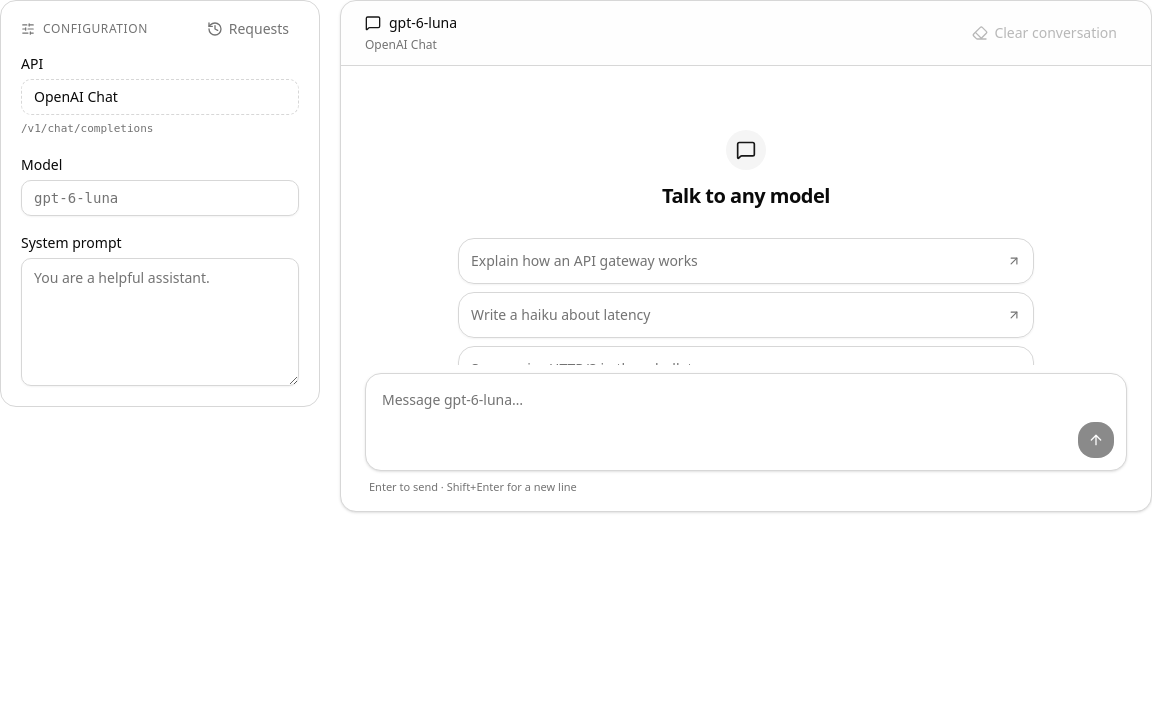
ChatTab › shows a stream that fails midway as an error under the partial reply
This screenshot has width=1152, height=720.
Type "Hi" into the text box labelled "Message".
click(746, 422); type("Hi")  # box x1=366 y1=374 x2=1126 y2=470
Then press Enter
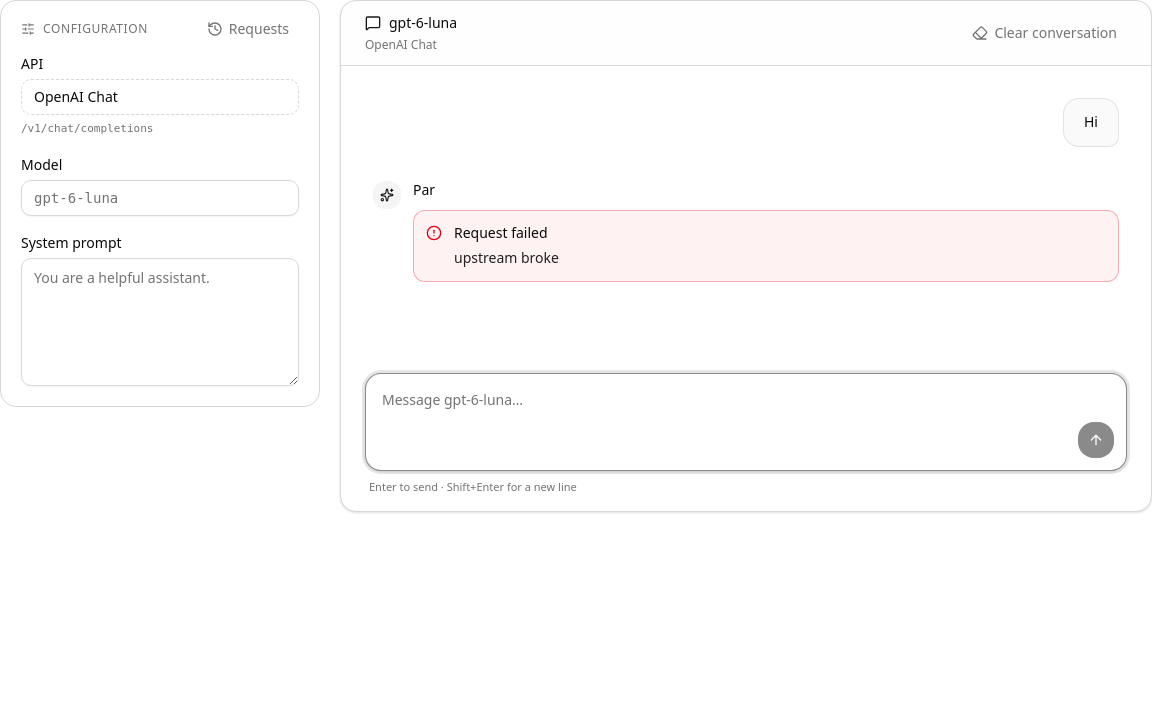
Now the message shows "upstream broke", box x1=454 y1=248 x2=559 y2=266
